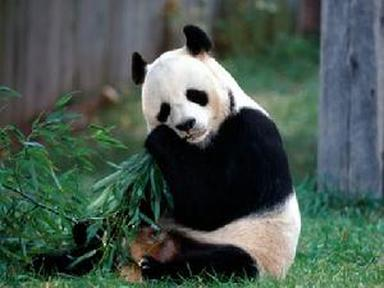panda: (31, 20, 303, 282)
